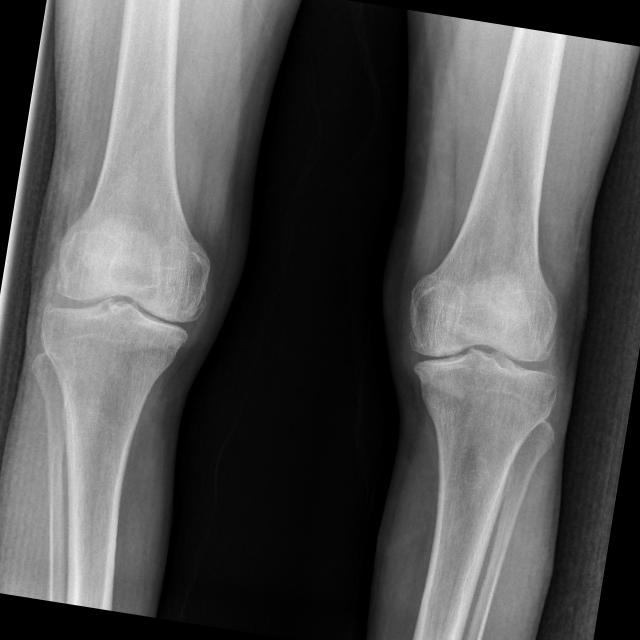Knee: (33, 217, 216, 398), (387, 273, 572, 442)
